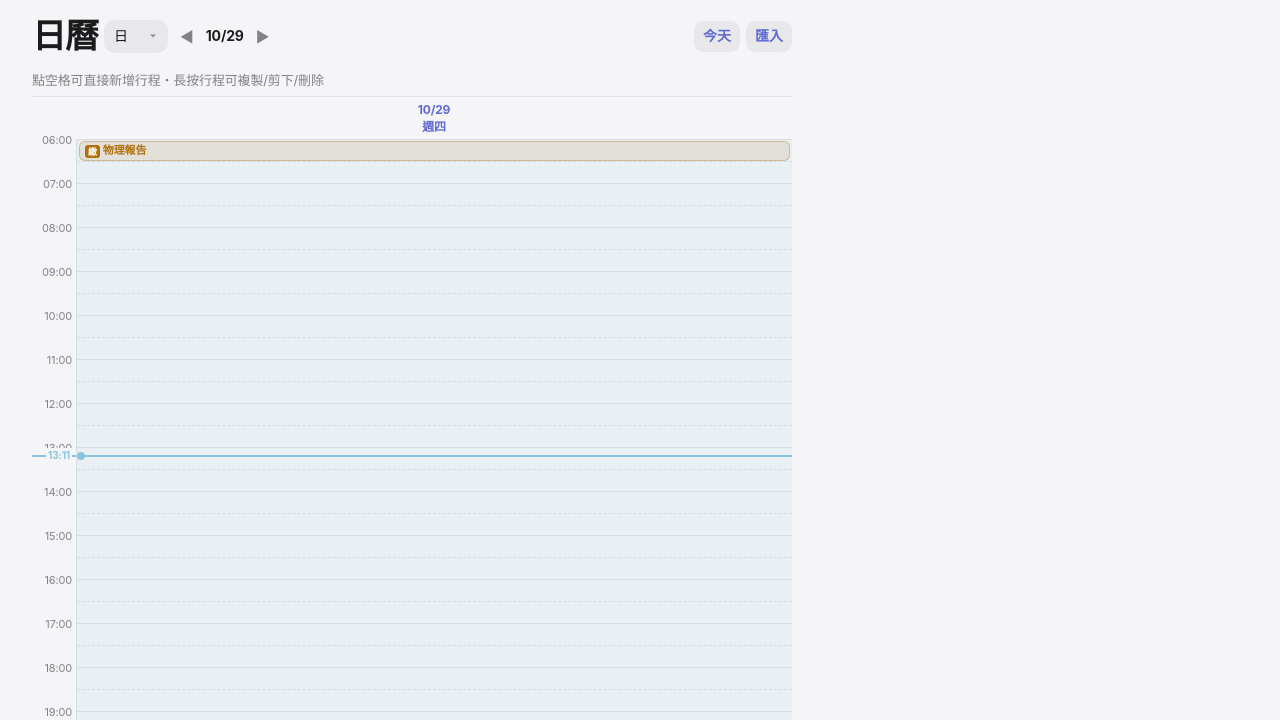
Test case: 學校作業表單：寫入成功但刷新失敗要可見且可重試 › 行事曆編輯：PATCH 成功、reload 失敗 → 提示並只重試 reload
The width and height of the screenshot is (1280, 720).
Select "日" in the dropdown at x=136, y=36, box top-left (104, 20), bottom-right (168, 53)
(page scrolled)
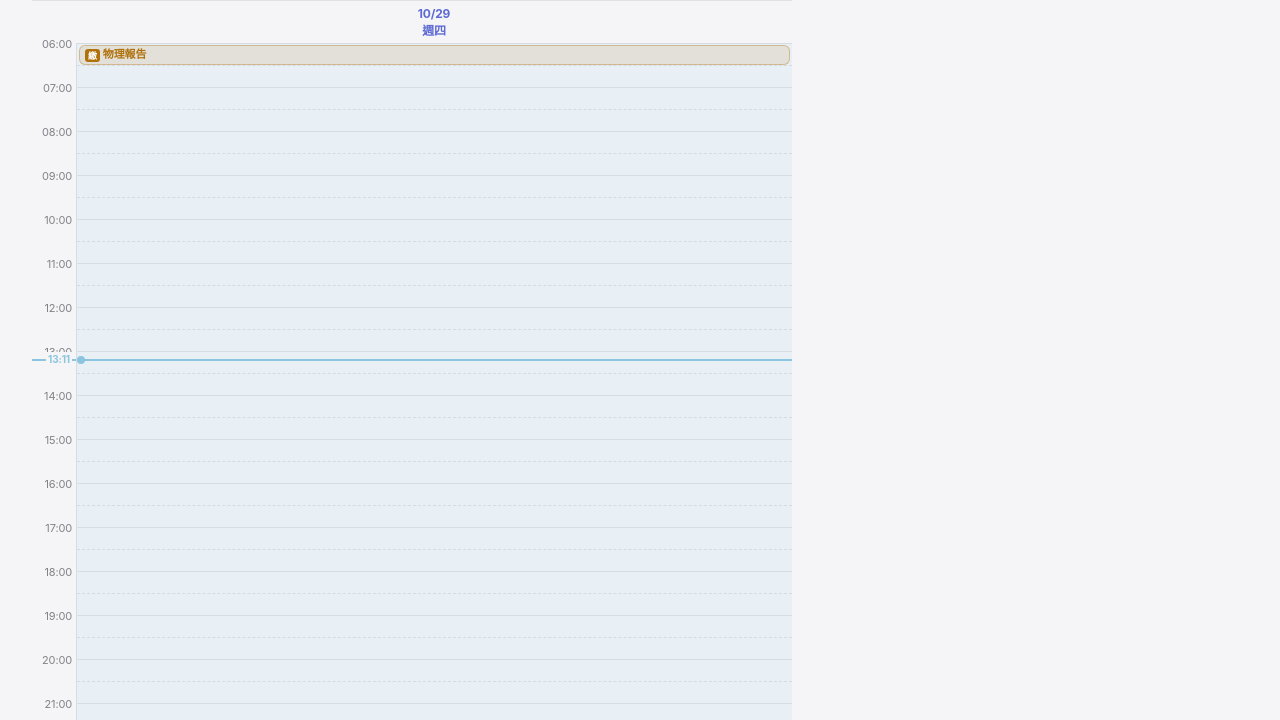
Click the element titled "截止：物理報告" at x=434, y=55, box top-left (79, 45), bottom-right (790, 65)
(page scrolled)
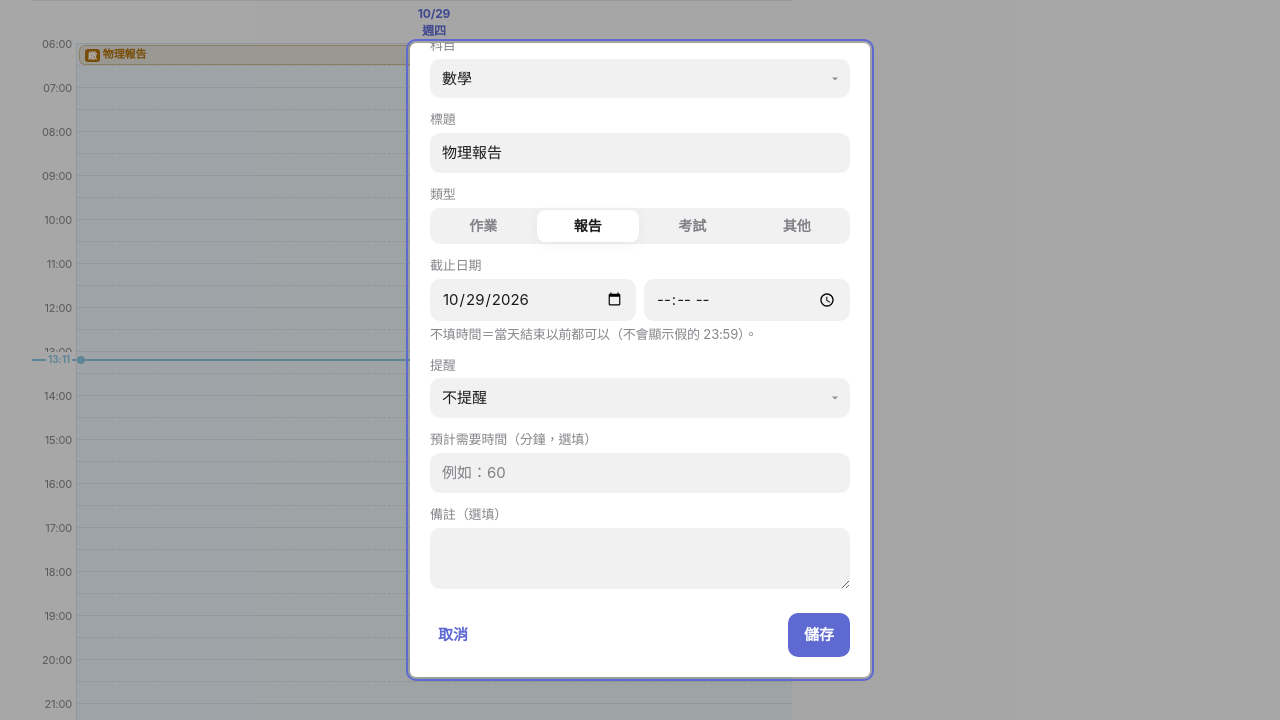
Click the button "儲存" at x=819, y=635, box top-left (788, 613), bottom-right (850, 657)
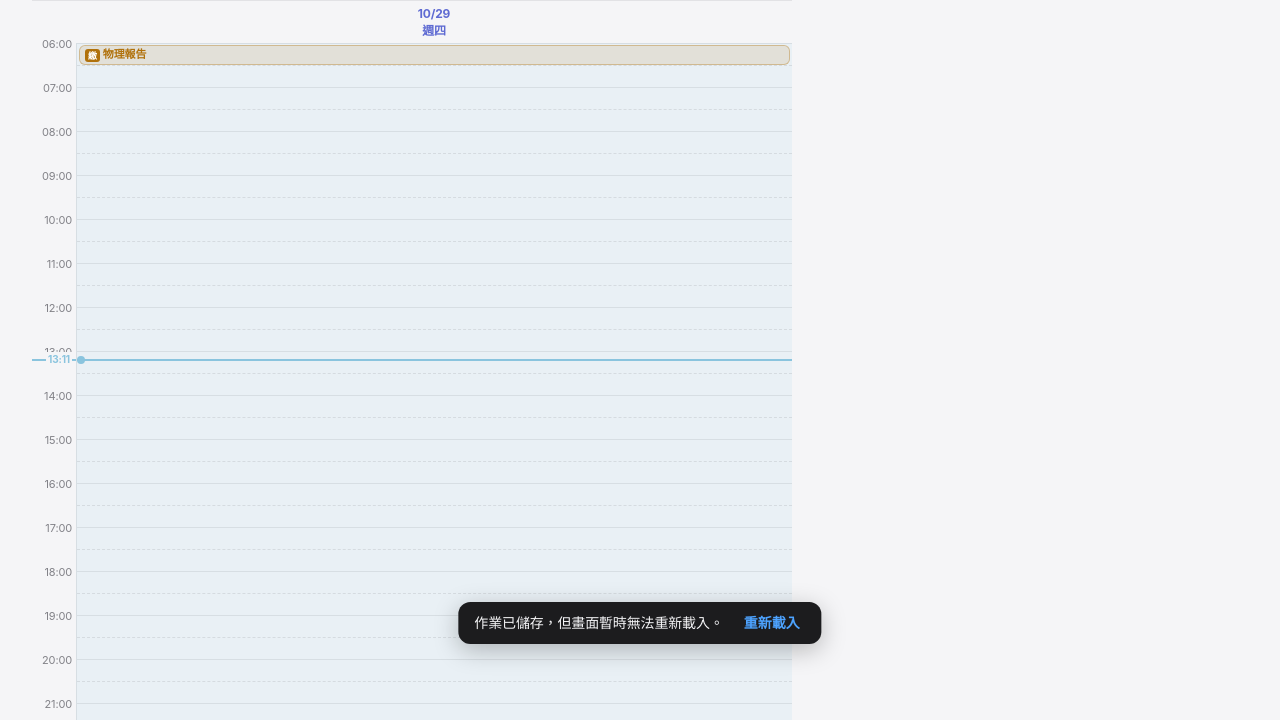
Result: the message shows "作業已儲存，但畫面暫時無法重新載入" at top-left (474, 614), bottom-right (724, 631)
Click the button "重新載入" at x=772, y=623, box top-left (738, 612), bottom-right (806, 634)
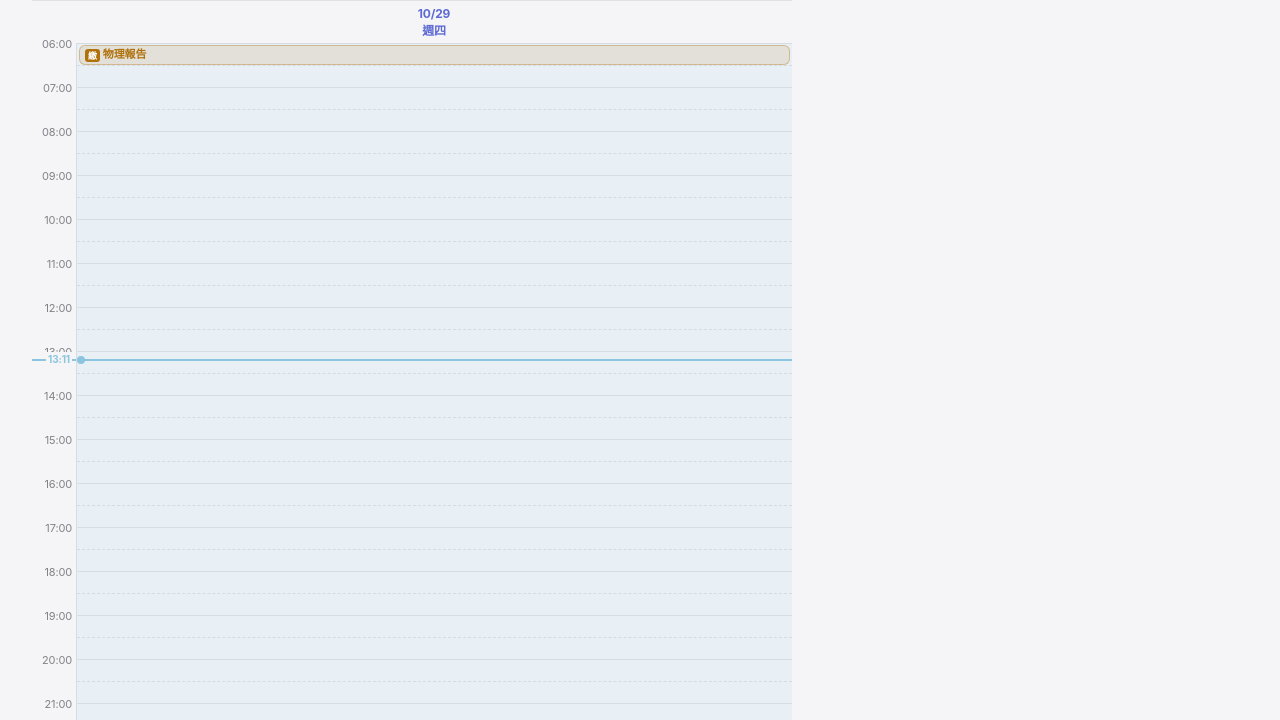
Result: the message "作業已儲存，但畫面暫時無法重新載入。 重新載入" is gone
